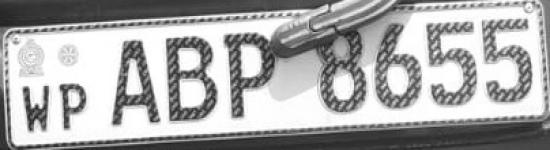5: (424, 16, 479, 113), (480, 13, 534, 109)
6: (371, 13, 425, 115)
8: (314, 16, 368, 116)
A: (104, 37, 163, 127)
B: (163, 31, 222, 127)
P: (223, 30, 276, 126), (55, 80, 91, 130)
W: (18, 79, 51, 136)
